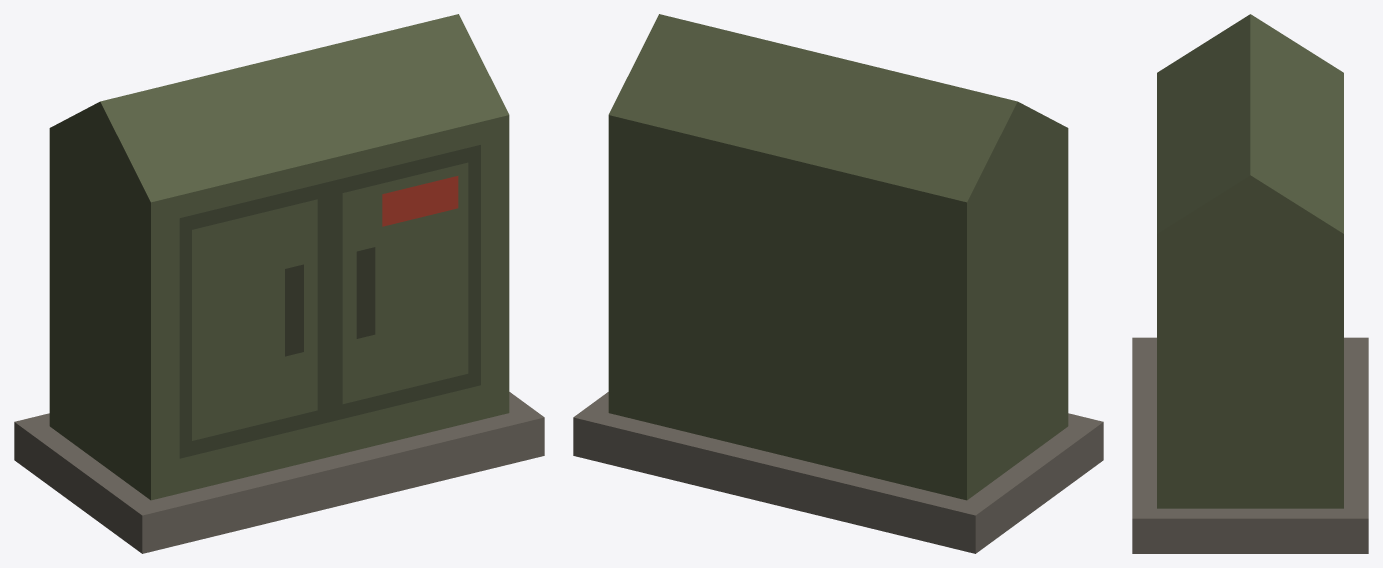
The model's file is SM_Prop_PowerBox_01.fbx.
3 renders of one model, left to right at view 1: azimuth 30°, elevation 25°; view 2: azimuth 150°, elevation 25°; view 3: azimuth 270°, elevation 25°, orthographic. The views are drawn at different scales.
Visible parts, largest first — view 1: SM_Prop_PowerBox_01; view 2: SM_Prop_PowerBox_01; view 3: SM_Prop_PowerBox_01.
Boxes of the visible parts, x1,y1,x2,y2 form: SM_Prop_PowerBox_01: [14, 14, 544, 553]; SM_Prop_PowerBox_01: [573, 14, 1103, 553]; SM_Prop_PowerBox_01: [1132, 14, 1368, 553].
Bounding box in the file's own units: 42.85 × 40.74 × 23.62.
